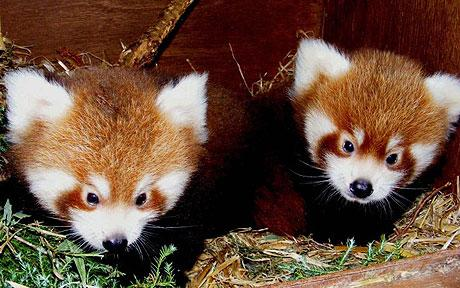red_panda: (232, 36, 456, 241), (6, 57, 222, 268)
